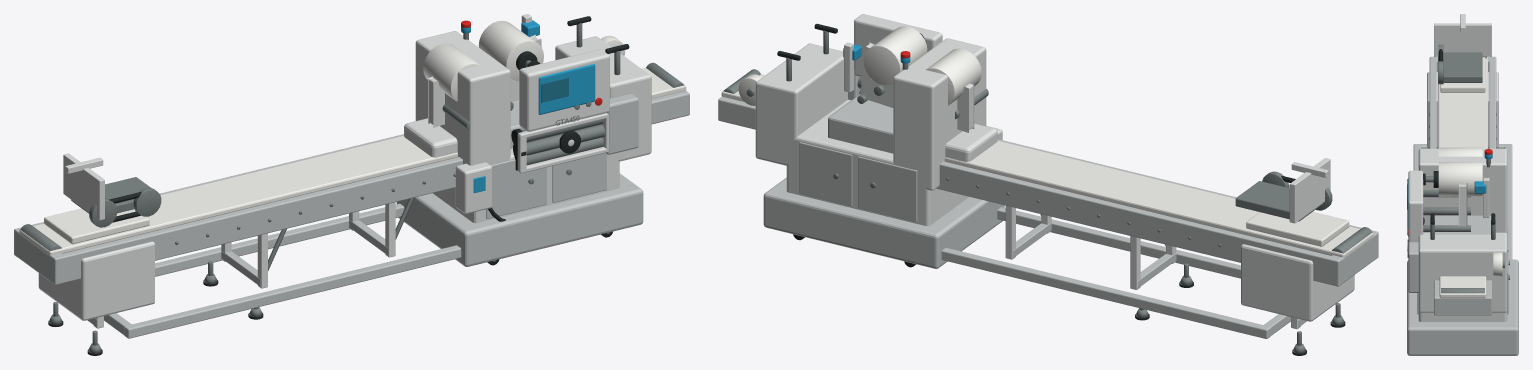
Rendered from danxiao-gta450-120.glb.
The picture shows the model from 3 angles, left to right: view 1: azimuth 30°, elevation 25°; view 2: azimuth 150°, elevation 25°; view 3: azimuth 270°, elevation 25°; orthographic projection. The views are drawn at different scales.
Visible parts, largest first — view 1: infeed.left_side, infeed.belt, frame.main_base, frame.drive_bulkhead, transfer.loader_cabinet, frame.skid.operator, controls.panel_body, end_seal.cross_head, frame.skid.far, frame.cabinet.operator.door_left, frame.cabinet.operator.door_right, film.roll.02.web (+23 smaller); view 2: infeed.right_side, infeed.belt, frame.main_base, frame.drive_bulkhead, end_seal.cross_head, transfer.loader_cabinet, frame.skid.far, frame.main_cabinet, frame.cabinet.far.door_left, frame.cabinet.far.door_right, frame.skid.operator, seal.forming_box (+15 smaller); view 3: frame.main_base, end_seal.cross_head, frame.drive_bulkhead, infeed.belt, transfer.sensor_arch.left, film.roll.02.web, end_seal.discharge_frame, transfer.loader_upper_frame, controls.panel_body, end_seal.discharge_belt, seal.forming_box, frame.main_cabinet (+19 smaller).
Boxes of the visible parts, box(x1,y1,x2,y2) form: infeed.left_side: box(51, 157, 462, 284); infeed.belt: box(19, 135, 457, 255); frame.main_base: box(396, 173, 643, 266); frame.drive_bulkhead: box(415, 31, 510, 165); transfer.loader_cabinet: box(38, 241, 154, 320); frame.skid.operator: box(124, 245, 461, 338); controls.panel_body: box(519, 49, 609, 131); end_seal.cross_head: box(555, 36, 651, 161); frame.skid.far: box(155, 203, 404, 276); frame.cabinet.operator.door_left: box(486, 159, 546, 218); frame.cabinet.operator.door_right: box(552, 153, 606, 202); film.roll.02.web: box(478, 20, 543, 81); infeed.right_side: box(936, 161, 1342, 286); infeed.belt: box(944, 140, 1373, 257); frame.main_base: box(763, 177, 1004, 268); frame.drive_bulkhead: box(893, 38, 986, 190); end_seal.cross_head: box(755, 43, 847, 165); transfer.loader_cabinet: box(1241, 244, 1354, 321); frame.skid.far: box(941, 247, 1271, 338); frame.main_cabinet: box(786, 99, 969, 226); frame.cabinet.far.door_left: box(858, 156, 917, 222); frame.cabinet.far.door_right: box(799, 142, 852, 206); frame.skid.operator: box(997, 207, 1240, 278); seal.forming_box: box(828, 93, 893, 153); frame.main_base: box(1407, 259, 1518, 355); end_seal.cross_head: box(1418, 234, 1507, 312); frame.drive_bulkhead: box(1418, 148, 1507, 233); infeed.belt: box(1438, 56, 1487, 148); transfer.sensor_arch.left: box(1434, 23, 1491, 56); film.roll.02.web: box(1438, 162, 1482, 196); end_seal.discharge_frame: box(1434, 280, 1491, 315); transfer.loader_upper_frame: box(1443, 52, 1482, 82); controls.panel_body: box(1408, 170, 1423, 242); end_seal.discharge_belt: box(1439, 276, 1486, 298); seal.forming_box: box(1430, 215, 1495, 234); frame.main_cabinet: box(1418, 232, 1507, 321).
Size of the model in its own units: 5.05 by 1.55 by 0.96.
